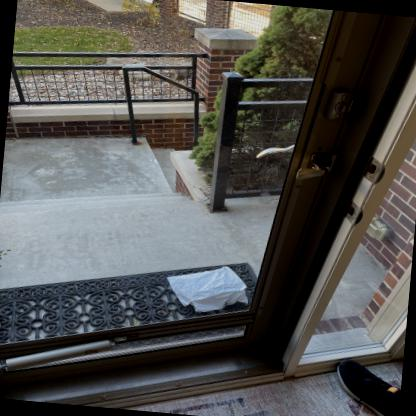plastic_bag: (166, 266, 248, 313)
